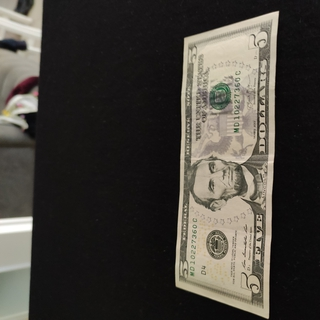5USDFront: (173, 10, 279, 319)
